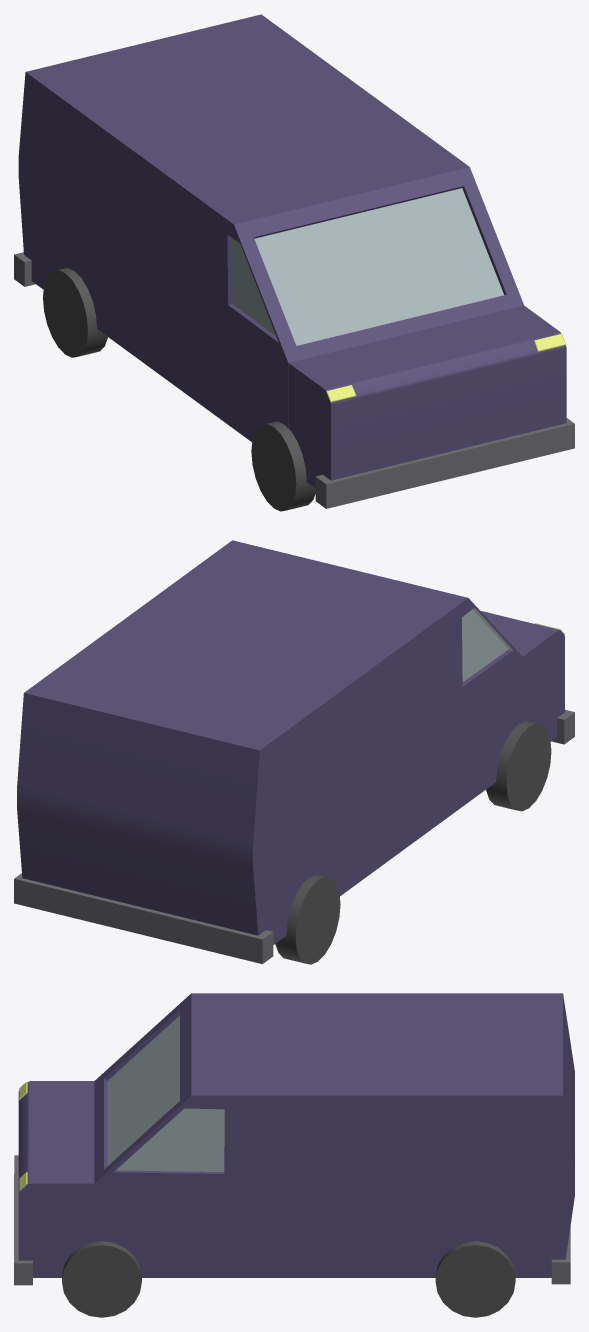
The model's file is Van fbx.fbx.
The picture shows the model from 3 angles, top to bottom: view 1: azimuth 30°, elevation 25°; view 2: azimuth 150°, elevation 25°; view 3: azimuth 270°, elevation 25°; orthographic projection. The views are drawn at different scales.
Visible parts, largest first — view 1: back_of_van1; view 2: back_of_van1; view 3: back_of_van1.
Boxes of the visible parts, bbox=[...] form: back_of_van1: bbox=[14, 14, 574, 511]; back_of_van1: bbox=[14, 540, 574, 964]; back_of_van1: bbox=[14, 993, 574, 1317].
Bounding box in the file's own units: 2.94 × 2.69 × 6.27.
